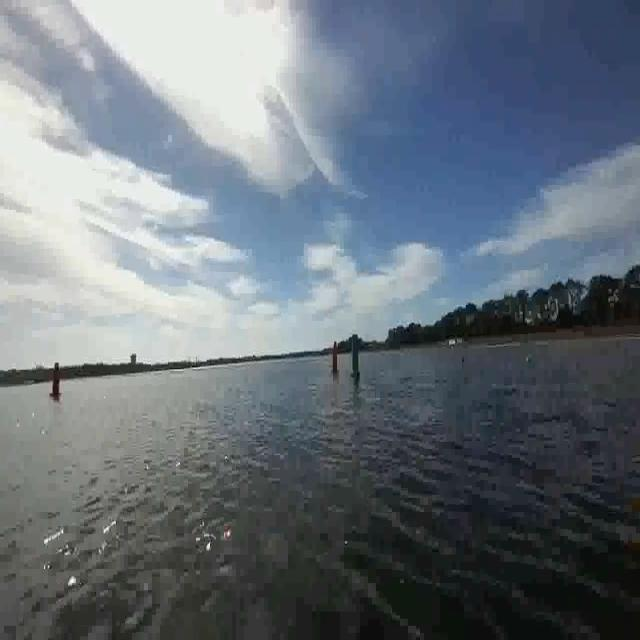green-column-buoy: (348, 334, 362, 379)
red-column-buoy: (51, 368, 63, 398), (332, 342, 342, 375)
